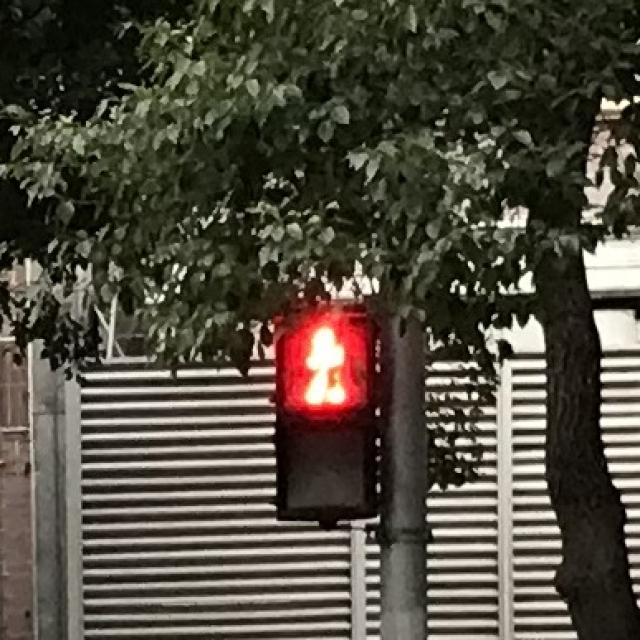red_light: (273, 316, 372, 415)
